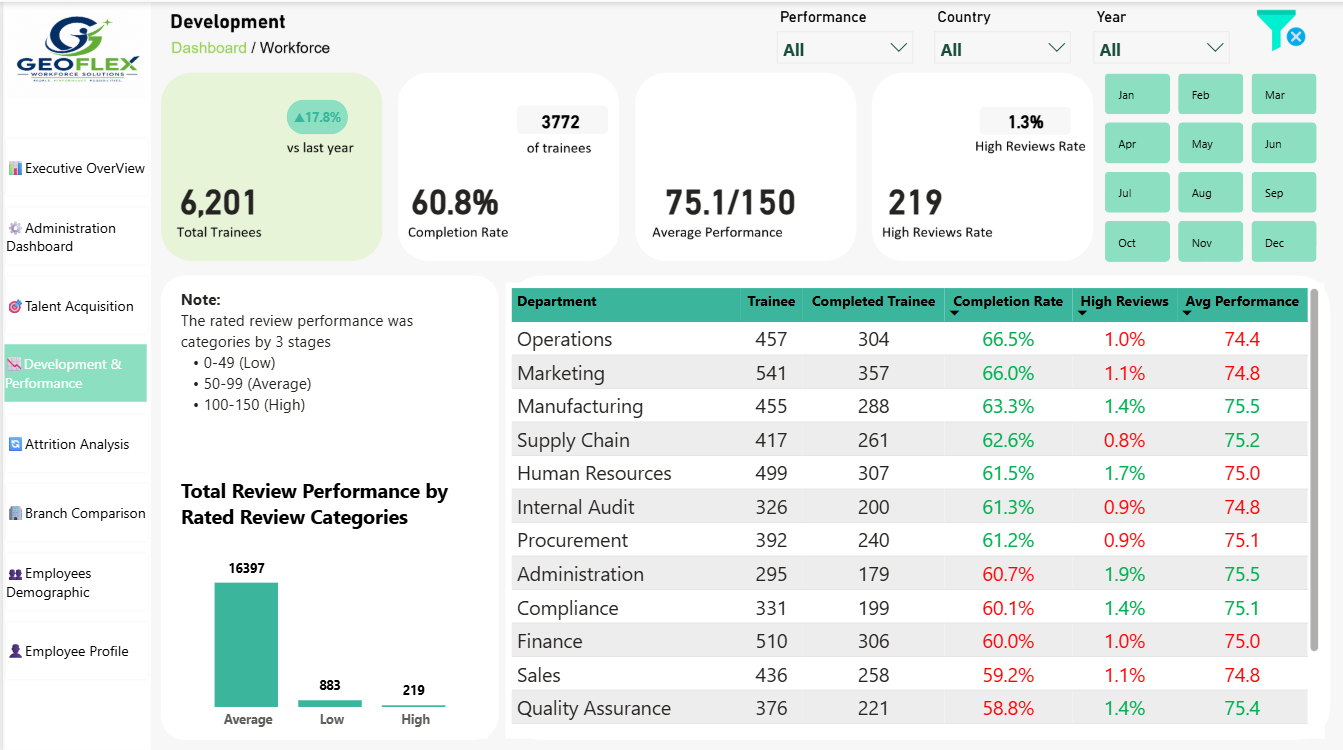

Layout of this report page (visuals, bound fields, positions):
{"tool":"powerbi","page":{"name":"📉Development & Performance","canvas":[1280,720],"ordinal":3},"visuals":[{"type":"tableEx","fields":{"Values":["Departments.DepartmentName","_Dax House.Total Trainee","_Dax House.Training Completion","_Dax House.Training Completion Rate %","_Dax House.Total PerformanceID","_Dax House.High Performer Rate","_Dax House.Average Performance Score"]},"box":[480,267.3,781.8,435.4],"z":0},{"type":"clusteredColumnChart","title":"Total Review Performance by Rated Review Categories","fields":{"Category":["PerformanceReviews.Score Performer"],"Y":["_Dax House.Total PerformanceID"]},"box":[164.1,453.7,297.7,249.1],"z":1000},{"type":"textbox","box":[164.1,267.3,297.7,139.7],"z":2000},{"type":"pageNavigator","box":[0,127.2,141.6,529.7],"z":3000},{"type":"card","fields":{"Values":["_Dax House.Total Trainee"]},"box":[158,153.9,97.2,68.9],"z":4000},{"type":"shape","box":[271.4,93.2,58.9,33.4],"z":5000},{"type":"card","fields":{"Values":["_Dax House.Training Completion Rate %"]},"box":[382.8,153.9,97.2,68.9],"z":6000},{"type":"card","fields":{"Values":["_Dax House.Average Performance Score /150"]},"box":[605.6,153.9,176.2,68.9],"z":7000},{"type":"card","fields":{"Values":["_Dax House.Training Completion"]},"box":[461.8,87.1,141.8,54.7],"z":8000},{"type":"card","fields":{"Values":["_Dax House.High Reviews"]},"box":[822.3,153.9,97.2,68.9],"z":9000},{"type":"card","fields":{"Values":["_Dax House.High Reviews Rate"]},"box":[905.3,87.1,141.8,54.7],"z":10000},{"type":"slicer","fields":{"Values":["Date Table.Year"]},"box":[1030.7,0,149.9,74.9],"z":11000},{"type":"advancedSlicerVisual","fields":{"Values":["Date Table.Month"]},"box":[1047.1,62.8,214.7,190.4],"z":12000},{"type":"image","box":[1180.2,4.8,81.1,46.1],"z":13000},{"type":"slicer","fields":{"Values":["Branches.CountryName"]},"box":[879.2,0,150.3,68.1],"z":14000},{"type":"slicer","fields":{"Values":["Employees.Performance Score Category"]},"box":[728.9,0,149.9,74.9],"z":15000}]}

Visuals, with their boxes on the page's 1280x720 design canvas (x1, y1, x2, y2). These are canvas units, not pixel positions in the 1343x750 screenshot, which may show the page scaled, cropped or inside an application window:
tableEx - Departments.DepartmentName x _Dax House.Total Trainee: <region>480, 267, 1262, 703</region>
"Total Review Performance by Rated Review Categories" clusteredColumnChart: <region>164, 454, 462, 703</region>
textbox: <region>164, 267, 462, 407</region>
pageNavigator: <region>0, 127, 142, 657</region>
card - _Dax House.Total Trainee: <region>158, 154, 255, 223</region>
shape: <region>271, 93, 330, 127</region>
card - _Dax House.Training Completion Rate %: <region>383, 154, 480, 223</region>
card - _Dax House.Average Performance Score /150: <region>606, 154, 782, 223</region>
card - _Dax House.Training Completion: <region>462, 87, 604, 142</region>
card - _Dax House.High Reviews: <region>822, 154, 920, 223</region>
card - _Dax House.High Reviews Rate: <region>905, 87, 1047, 142</region>
slicer - Date Table.Year: <region>1031, 0, 1181, 75</region>
advancedSlicerVisual - Date Table.Month: <region>1047, 63, 1262, 253</region>
image: <region>1180, 5, 1261, 51</region>
slicer - Branches.CountryName: <region>879, 0, 1030, 68</region>
slicer - Employees.Performance Score Category: <region>729, 0, 879, 75</region>
